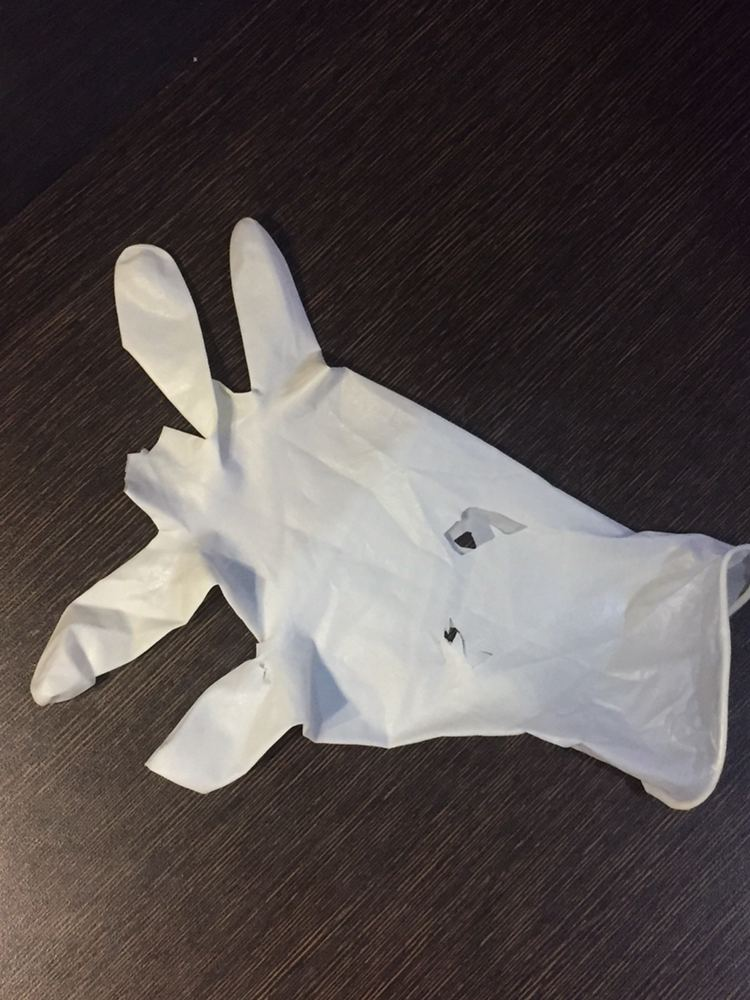defected: (36, 215, 744, 836)
